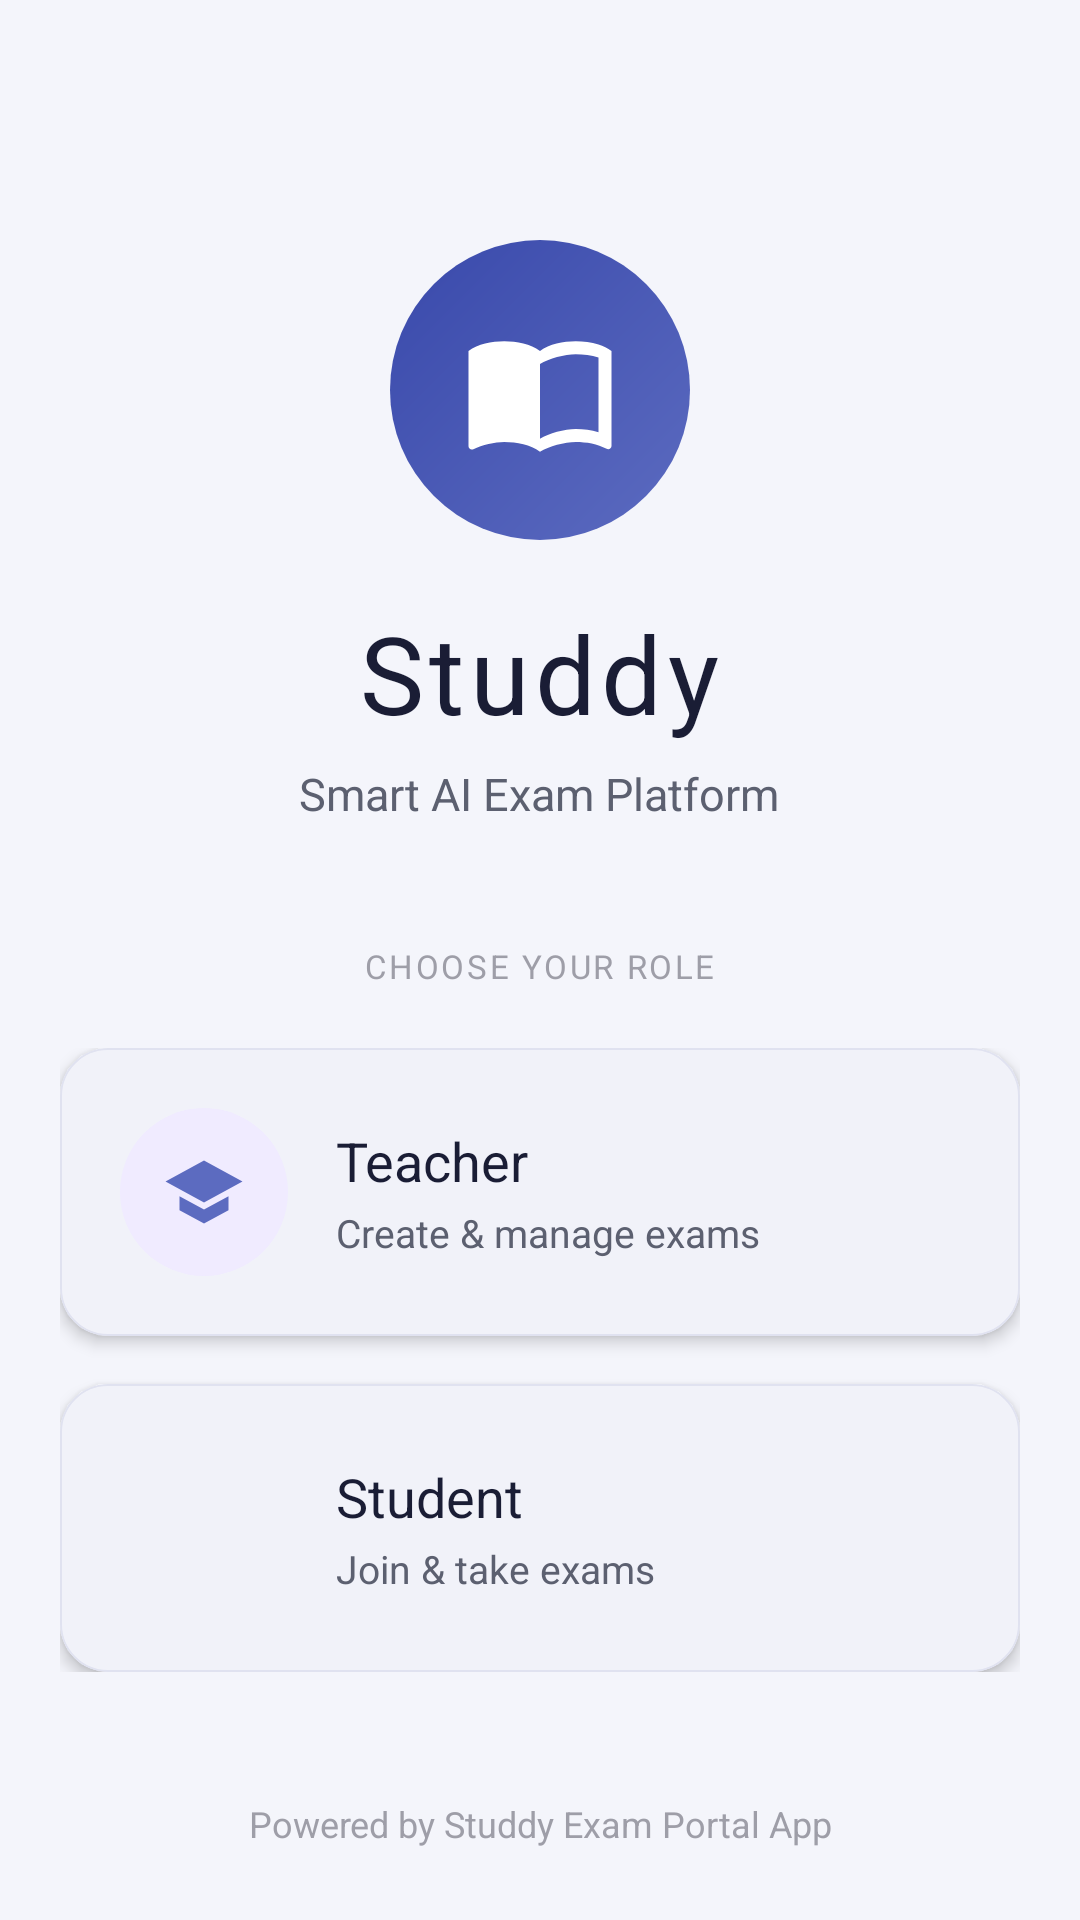

Point at icon controls on the screen. Image size 1080*1920, points as (x,y).
book: (540,396)
